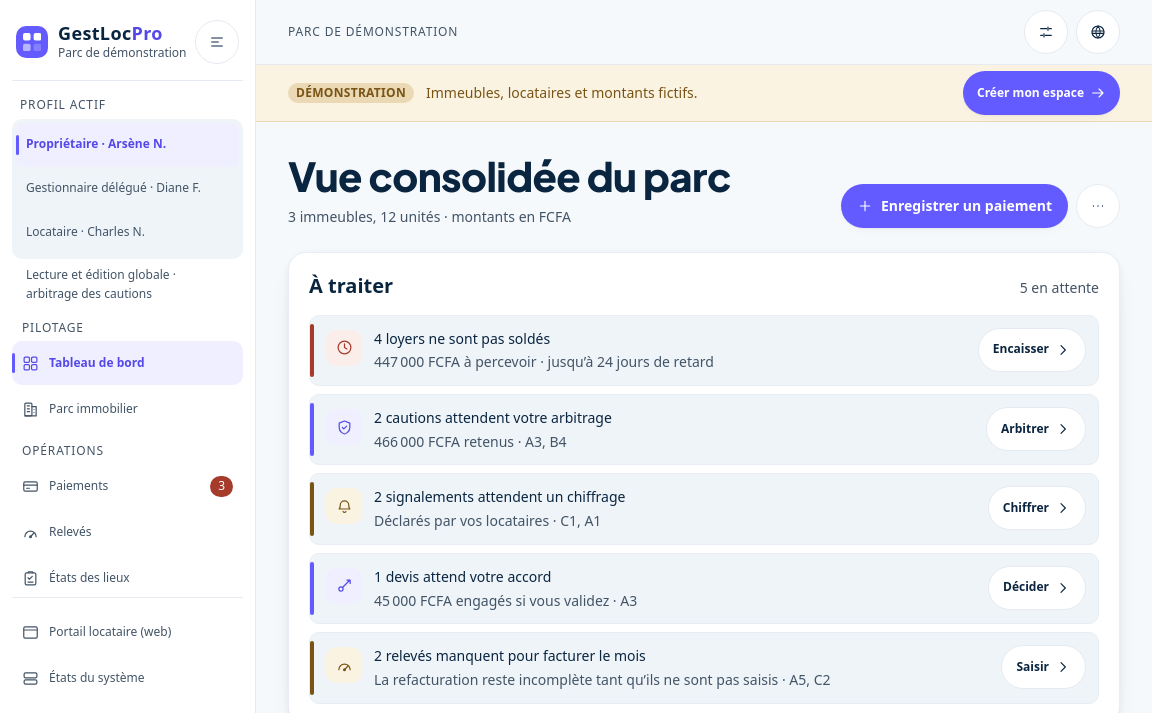
Test case: la parité du franc CFA › convertit en euros sans que le serveur réponde
What coordinates should you click on to do the following:
click the button named "Réglages : langue, devise et thème"
I would click on:
 (1046, 32)
Its box is [1024, 10, 1068, 54].
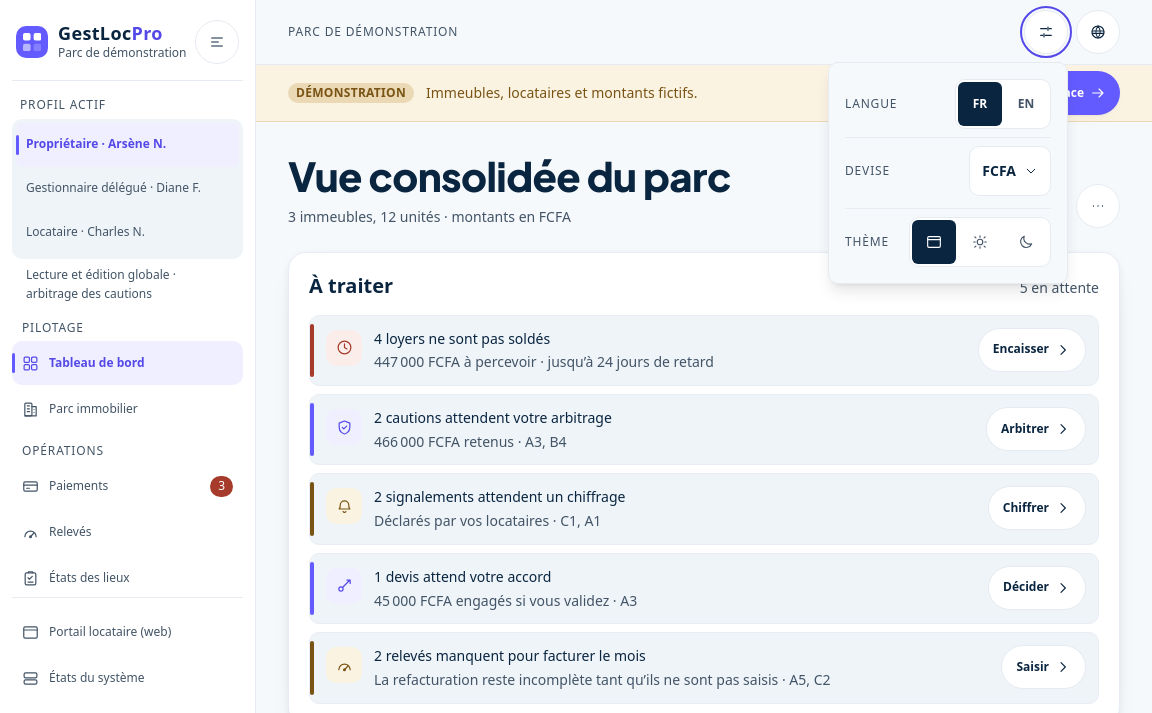
What coordinates should you click on to do the following:
click the button "FCFA"
I would click on:
 (1010, 171)
Its box is [969, 146, 1051, 196].
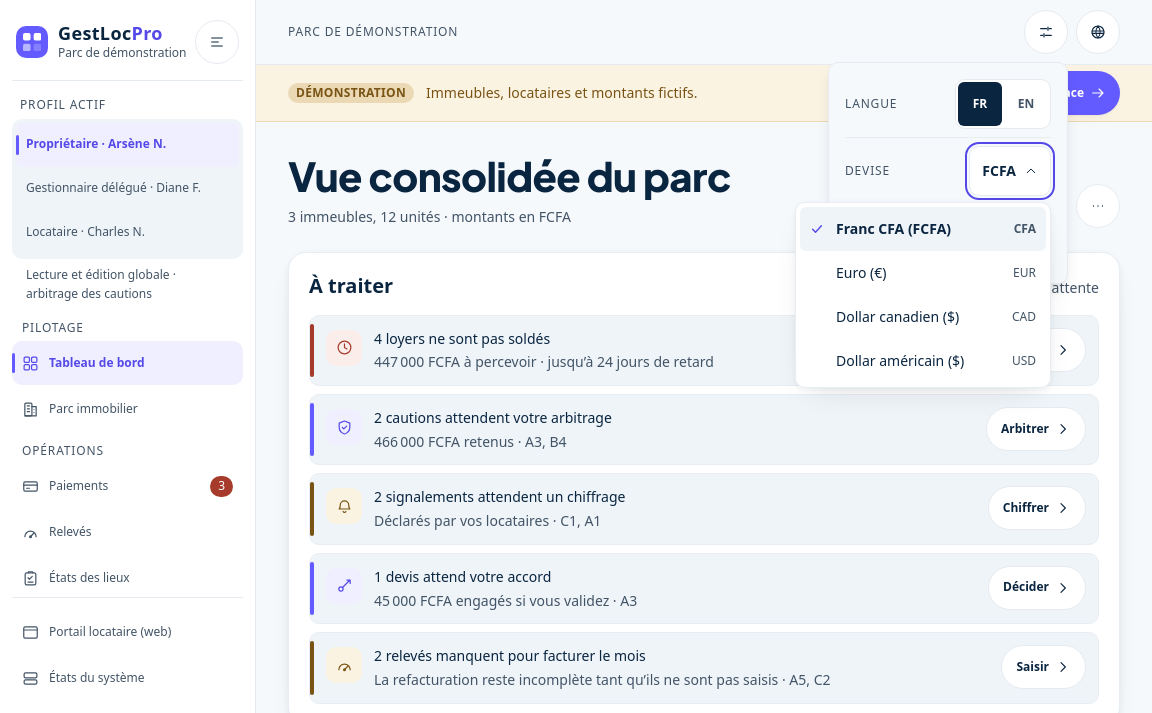
What coordinates should you click on to do the following:
click the option "Euro (€) EUR"
I would click on:
 (923, 273)
Its box is [800, 251, 1046, 295].
(page scrolled)
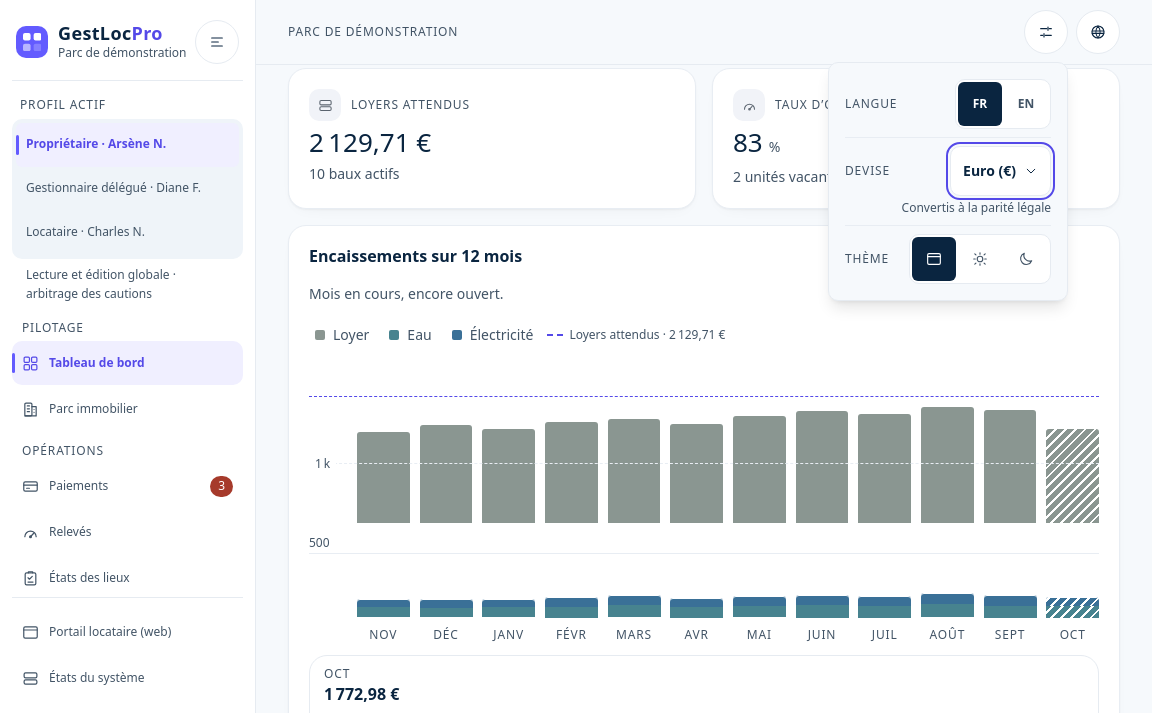
Expected: the text "447 000" is gone
